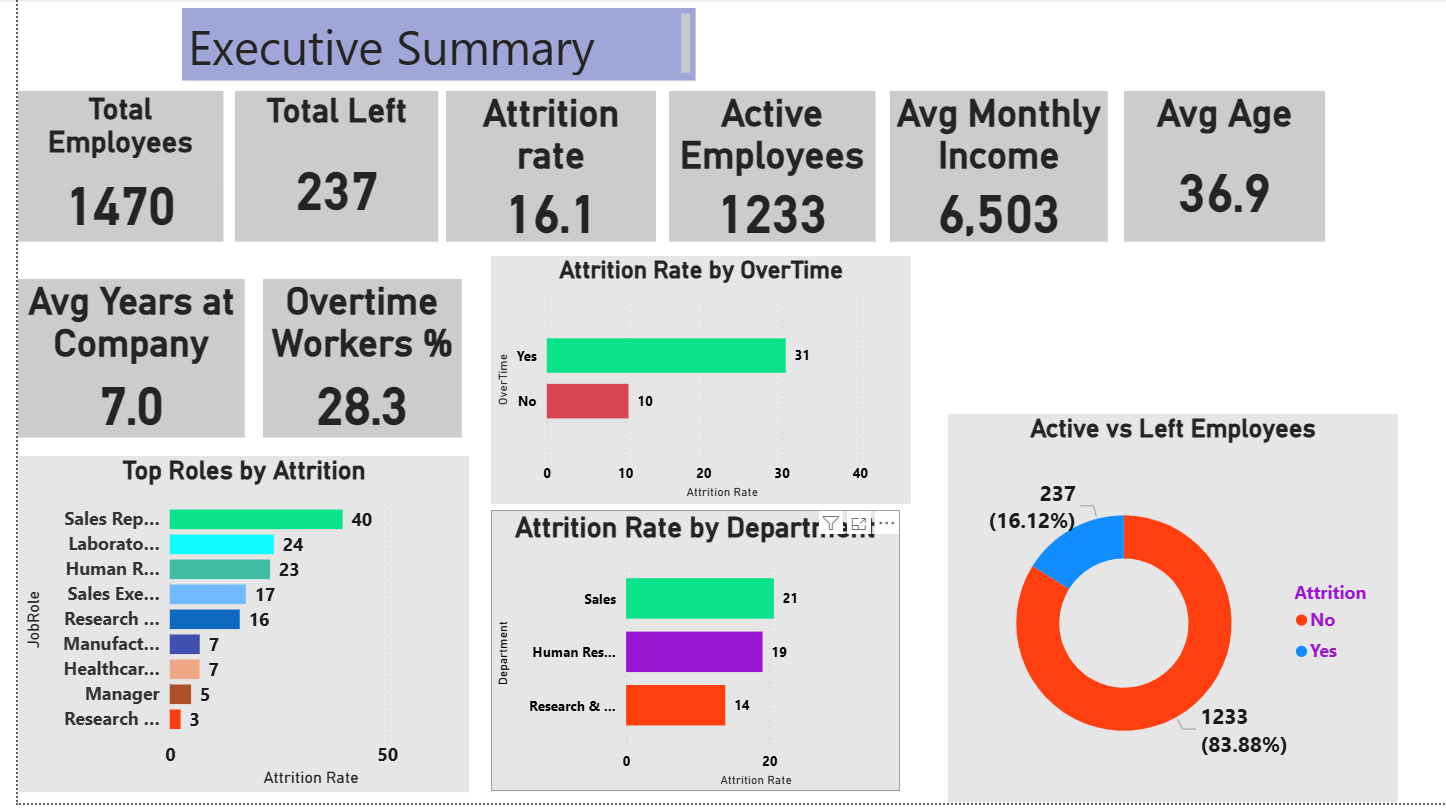

What the dashboard file says about the page in this screenshot:
{"tool":"powerbi","page":{"name":"executive Summary","canvas":[1280,720],"ordinal":0},"visuals":[{"type":"card","title":"Total Employees","fields":{"Values":["HR_Attrition_Cleanedfromsql.Total Employees"]},"box":[0,82.5,183.5,134.7],"z":0},{"type":"card","title":"Total Left","fields":{"Values":["HR_Attrition_Cleanedfromsql.Total Left"]},"box":[194,82.5,182.4,134.7],"z":1},{"type":"card","title":"Attrition rate","fields":{"Values":["HR_Attrition_Cleanedfromsql.Attrition Rate"]},"box":[383.3,82.5,188.2,134.7],"z":2},{"type":"card","title":"Active Employees","fields":{"Values":["HR_Attrition_Cleanedfromsql.Active Employees"]},"box":[583.1,82.5,184.7,134.7],"z":3},{"type":"card","title":"Avg Monthly Income","fields":{"Values":["HR_Attrition_Cleanedfromsql.Avg Monthly Income"]},"box":[780.5,82.5,195.1,134.7],"z":4},{"type":"card","title":"Avg Age","fields":{"Values":["Avg(HR_Attrition_Cleanedfromsql.Age)"]},"box":[990.8,82.5,180,134.7],"z":5},{"type":"card","title":"Avg  Years at Company","fields":{"Values":["Avg(HR_Attrition_Cleanedfromsql.YearsAtCompany)"]},"box":[0,250.9,203.3,141.7],"z":6},{"type":"card","title":"Overtime Workers %","fields":{"Values":["HR_Attrition_Cleanedfromsql.Overtime %"]},"box":[219.5,250.9,177.7,141.7],"z":7},{"type":"textbox","box":[146.7,8,459.9,64.8],"z":8},{"type":"clusteredBarChart","title":"Attrition Rate by Department","fields":{"Category":["HR_Attrition_Cleanedfromsql.Department"],"Y":["HR_Attrition_Cleanedfromsql.Attrition Rate"]},"box":[424,457.6,365.9,252.1],"z":9},{"type":"donutChart","title":"Active vs Left Employees","fields":{"Category":["HR_Attrition_Cleanedfromsql.Attrition"],"Y":["HR_Attrition_Cleanedfromsql.Total Employees"]},"box":[832.8,371.7,403,348.5],"z":10},{"type":"clusteredBarChart","fields":{"Category":["HR_Attrition_Cleanedfromsql.OverTime"],"Y":["HR_Attrition_Cleanedfromsql.Attrition Rate"]},"box":[424,230,376.3,221.9],"z":11},{"type":"barChart","title":"Top Roles by Attrition","fields":{"Category":["HR_Attrition_Cleanedfromsql.JobRole"],"Y":["HR_Attrition_Cleanedfromsql.Attrition Rate"]},"box":[1.2,408.9,403,300.8],"z":12}]}

Visuals, with their boxes in screenshot pixels (x1, y1, x2, y2), scaled from the page's 1280x720 canvas onto the 1446x809 screenshot:
"Total Employees" card: (0,93,207,244)
"Total Left" card: (219,93,425,244)
"Attrition rate" card: (433,93,646,244)
"Active Employees" card: (659,93,867,244)
"Avg Monthly Income" card: (882,93,1102,244)
"Avg Age" card: (1119,93,1323,244)
"Avg  Years at Company" card: (0,282,230,441)
"Overtime Workers %" card: (248,282,449,441)
textbox: (166,9,685,82)
"Attrition Rate by Department" clusteredBarChart: (479,514,892,797)
"Active vs Left Employees" donutChart: (941,418,1396,808)
clusteredBarChart - HR_Attrition_Cleanedfromsql.OverTime x HR_Attrition_Cleanedfromsql.Attrition Rate: (479,258,904,508)
"Top Roles by Attrition" barChart: (1,459,457,797)
